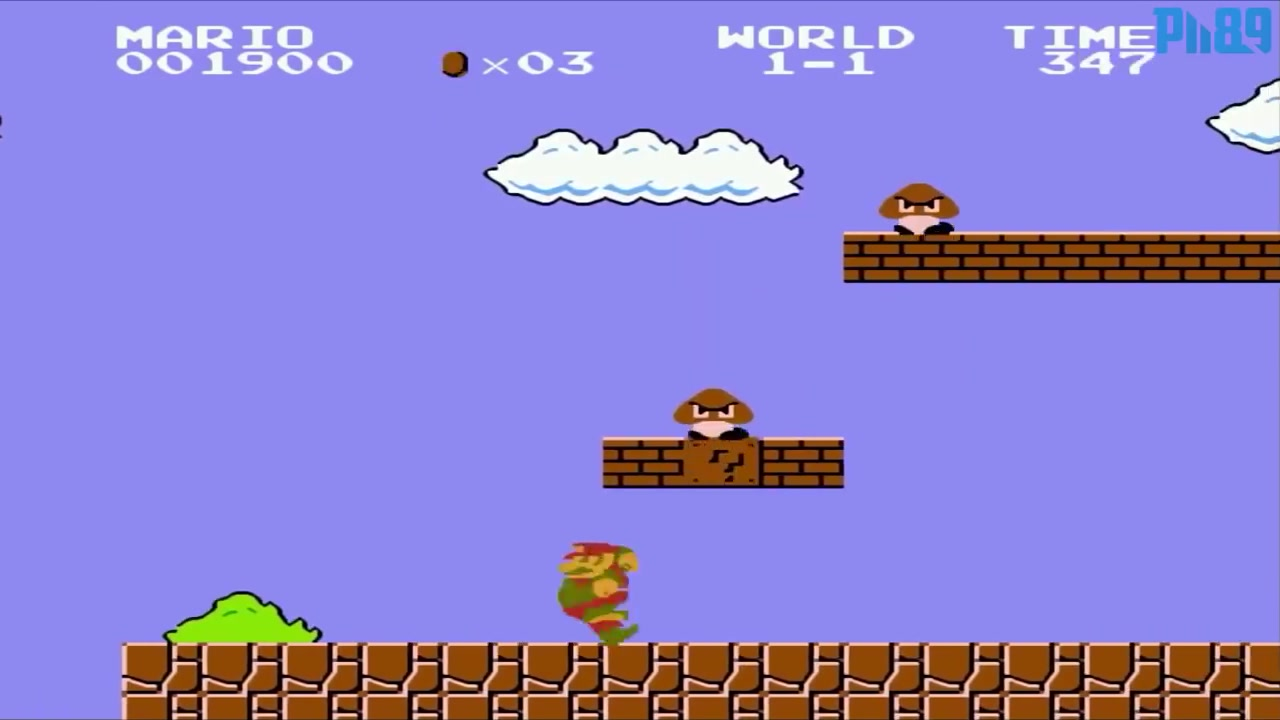mario: (547, 529, 644, 644)
